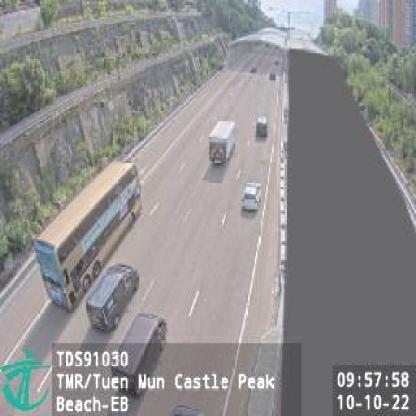Bus: (41, 161, 138, 306)
Car: (110, 312, 166, 382), (87, 262, 139, 334), (240, 180, 258, 213), (257, 114, 270, 137)
Truck: (207, 119, 236, 166)
